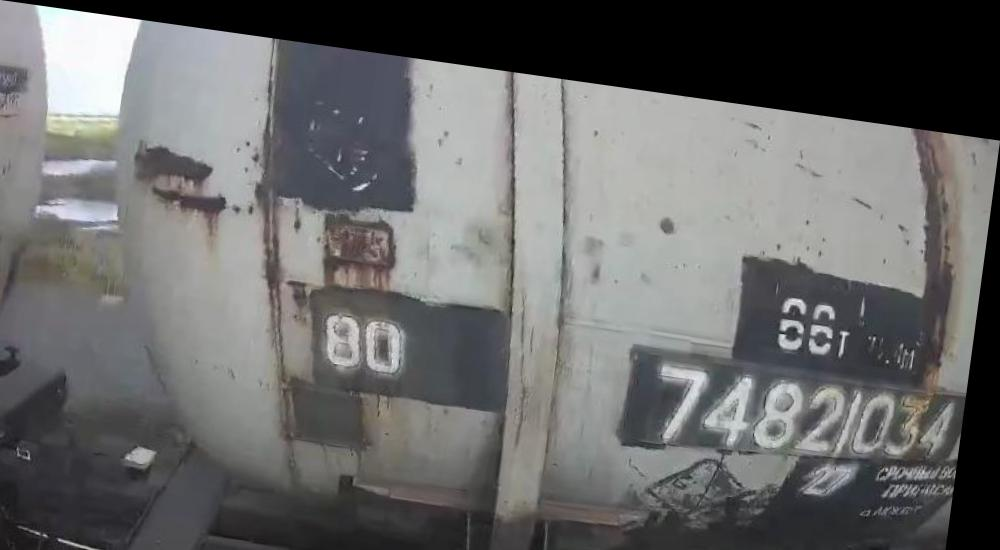Wagon-number: (651, 337, 964, 452)
